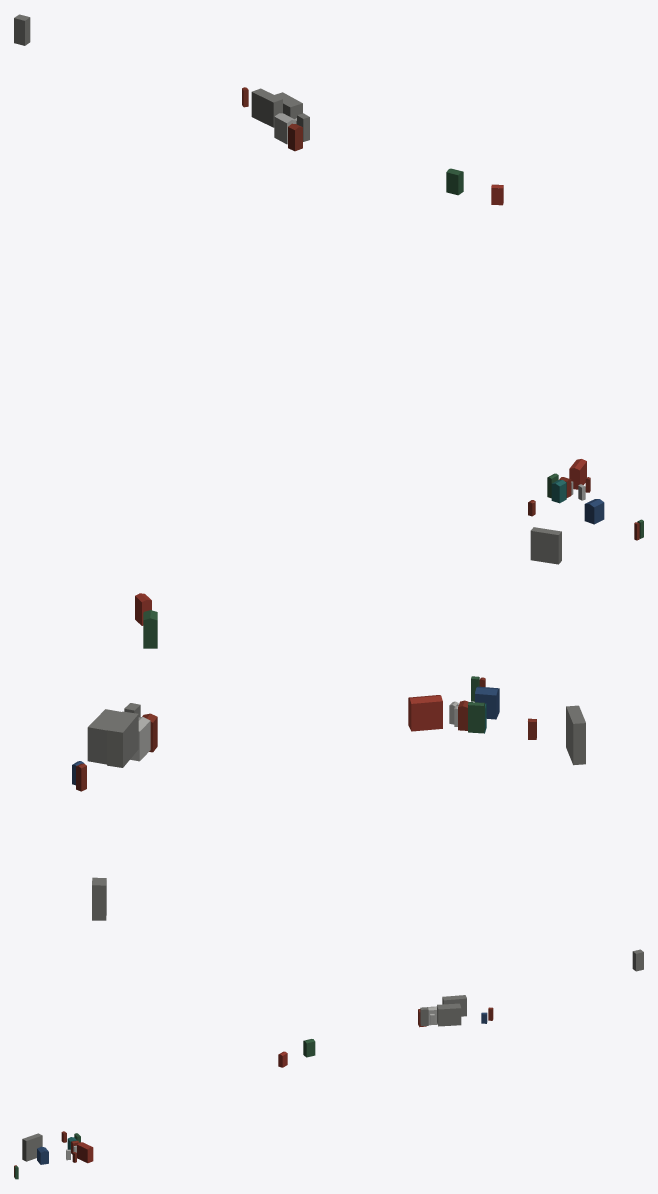
File: near-15-27369-14863.1438ca4a.glb
The picture shows the model from 3 angles, top to bottom: view 1: azimuth 30°, elevation 25°; view 2: azimuth 150°, elevation 25°; view 3: azimuth 270°, elevation 25°; orthographic projection. The views are drawn at different scales.
Bounding box in the file's own units: 247 × 251 × 820.
